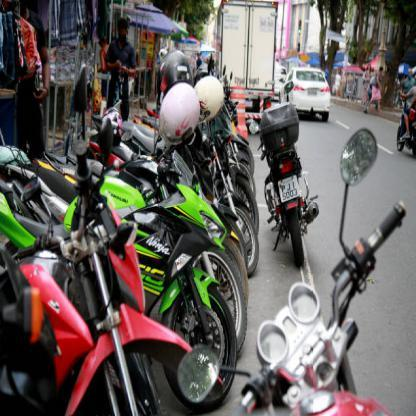Motorcycle: (247, 88, 322, 262)
